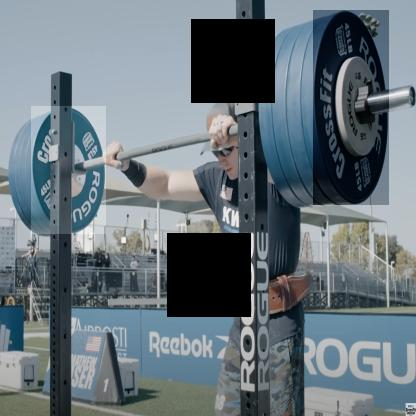barbell: (315, 11, 391, 206), (32, 107, 107, 235)
